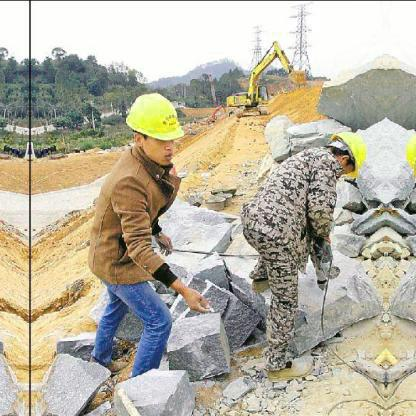Helmet: (132, 93, 190, 174), (320, 121, 375, 178)
